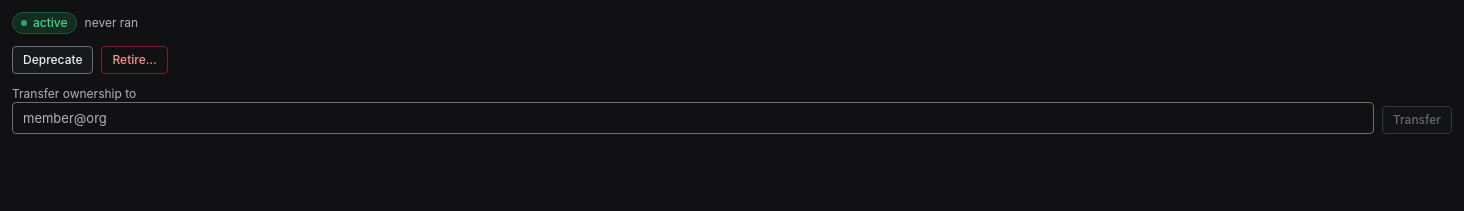
Test: the lifecycle of an agent, in the console (S32-04) › retiring with runs in flight offers to force, and forcing says what it did
Click the button "Retire…". click: x=135, y=60
box: [102, 46, 168, 74]
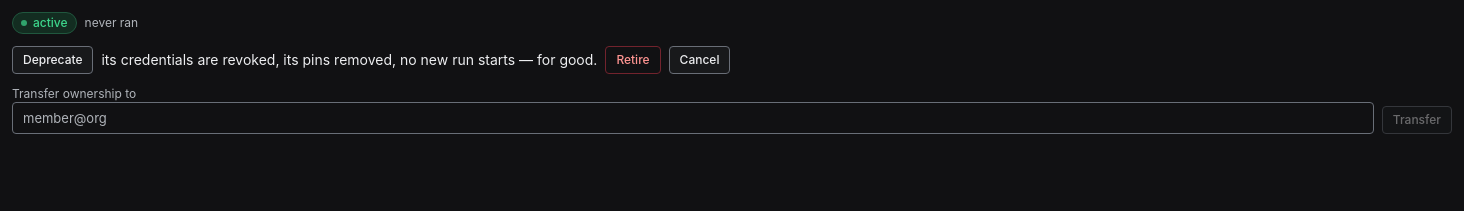
Click the button "Retire". click: x=633, y=60
box: [605, 46, 661, 74]
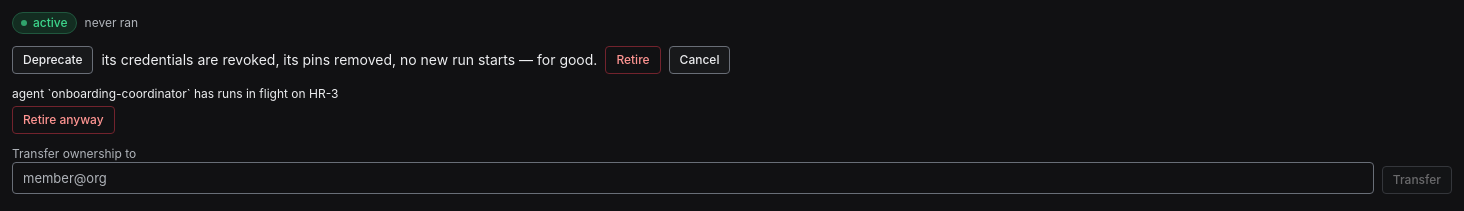
Expected: the message shows "HR-3", [12, 86, 338, 101]
Click the button "Retire anyway". click: x=63, y=120
box: [12, 106, 115, 134]
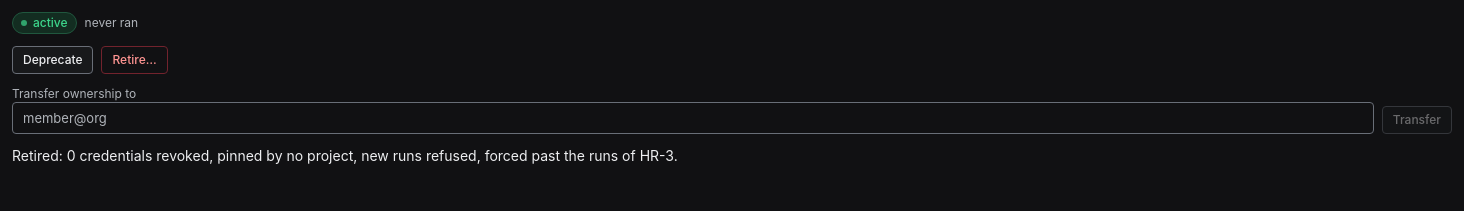
Expected: the message shows "forced past the runs of HR-3", [12, 147, 678, 164]
